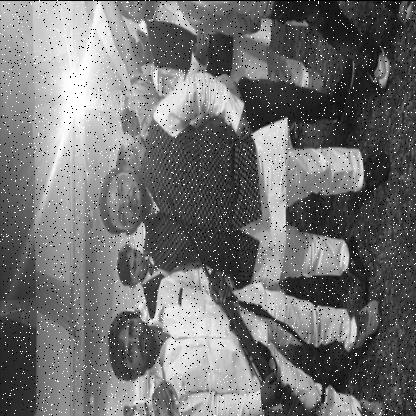rifle: (157, 180, 314, 416)
